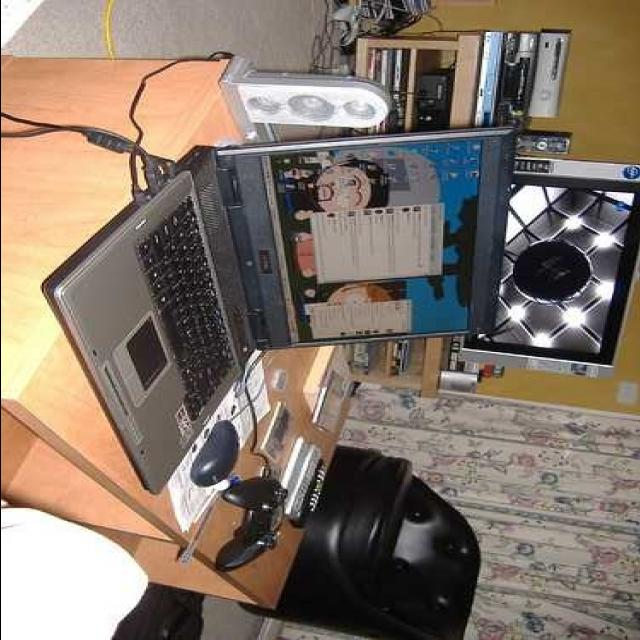laptop: (78, 117, 515, 501)
